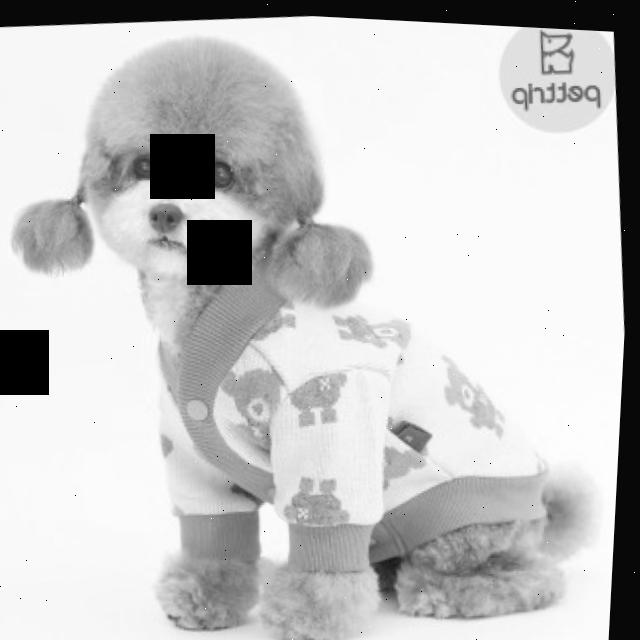cloth: (163, 253, 548, 565)
